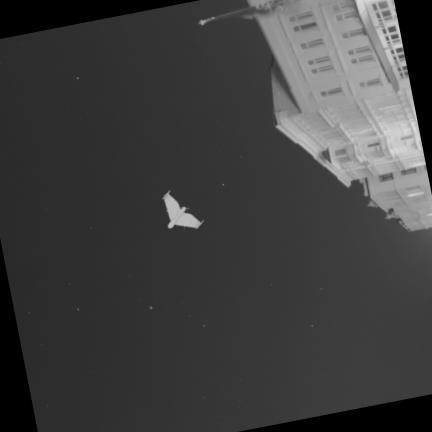Shahed: (163, 191, 203, 228)
